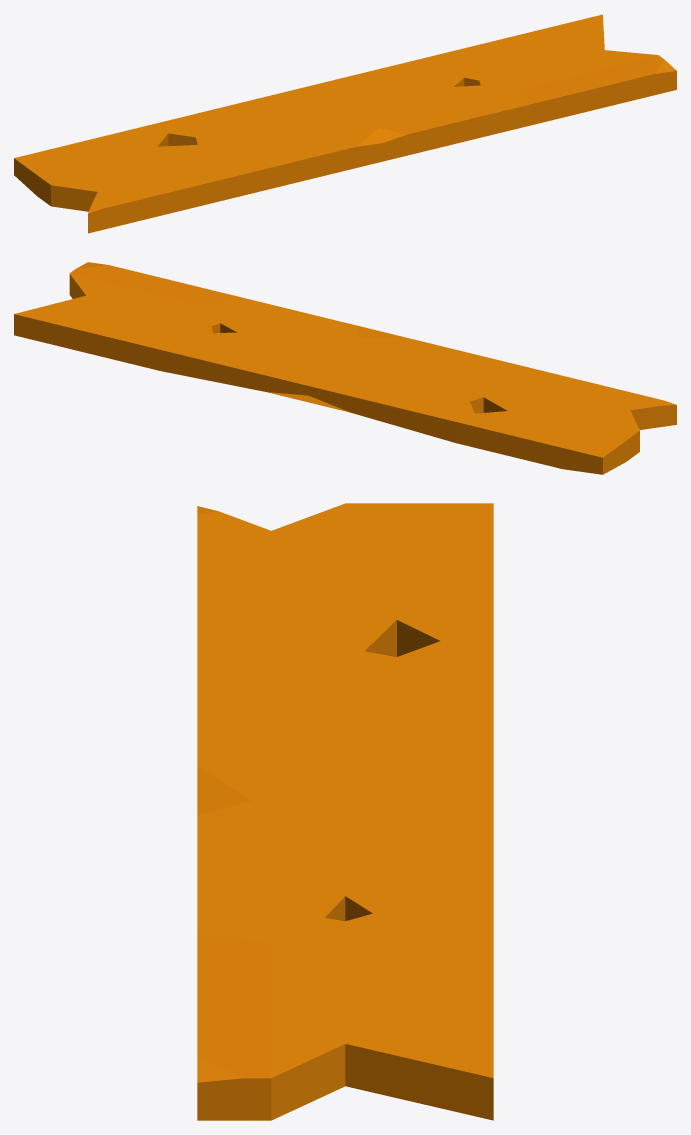
Rendered from Rotten wood_8.fbx.
3 renders of one model, top to bottom at view 1: azimuth 30°, elevation 25°; view 2: azimuth 150°, elevation 25°; view 3: azimuth 270°, elevation 25°, orthographic. The views are drawn at different scales.
Parts seen in each view (by area): view 1: Cube.063; view 2: Cube.063; view 3: Cube.063.
Part boxes in pixels (box(x1,y1,x2,y2)): Cube.063: box(14, 14, 676, 233); Cube.063: box(14, 262, 676, 474); Cube.063: box(197, 503, 493, 1120).
Size of the model in its own units: 60.01 by 2.07 by 13.07.
